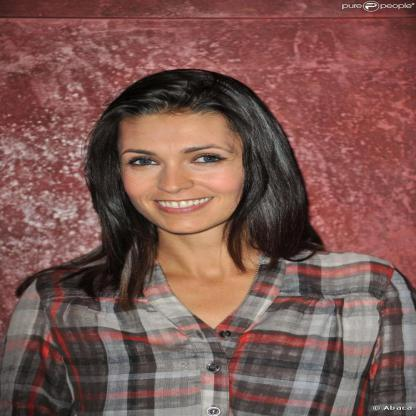long-hair: (45, 234, 352, 283)
